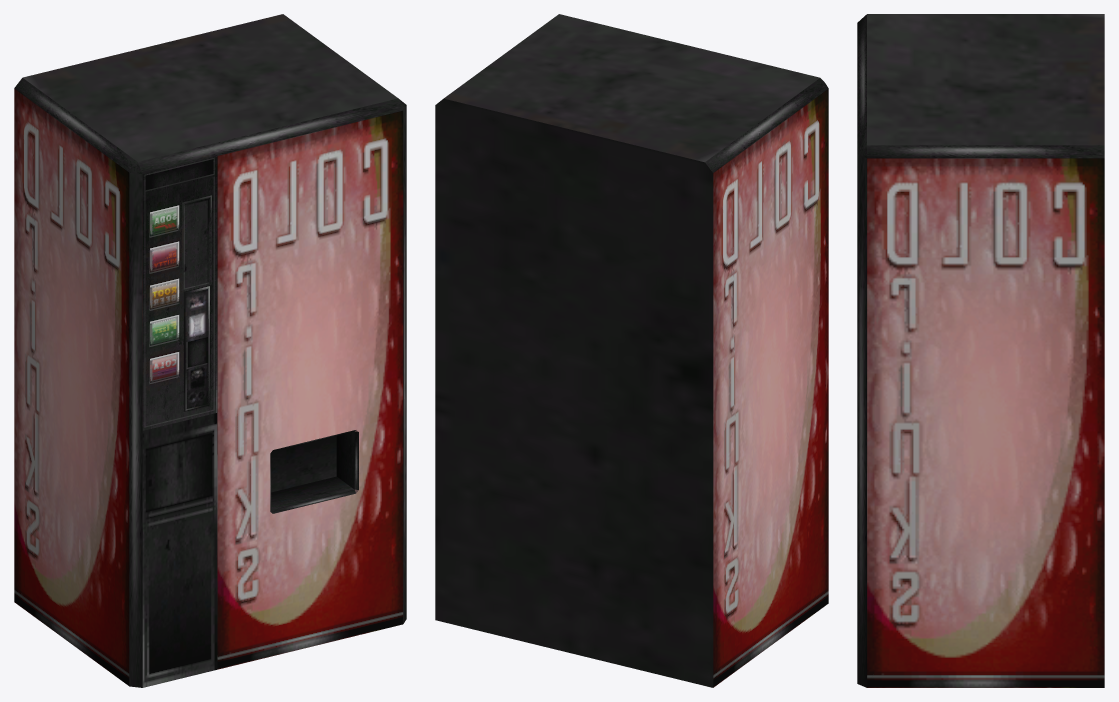
The model's file is pop_machine.fbx.
3 views of the same model, side by side, from view 1: azimuth 30°, elevation 25°; view 2: azimuth 150°, elevation 25°; view 3: azimuth 270°, elevation 25° (orthographic). The views are drawn at different scales.
Visible parts, largest first — view 1: mesh_0; view 2: mesh_0; view 3: mesh_0.
Boxes of the visible parts, x1,y1,x2,y2 form: mesh_0: (14,14,406,687); mesh_0: (435,14,828,687); mesh_0: (857,14,1104,687).
Size of the model in its own units: 100 by 180 by 75.
1 material, 1 textured.
